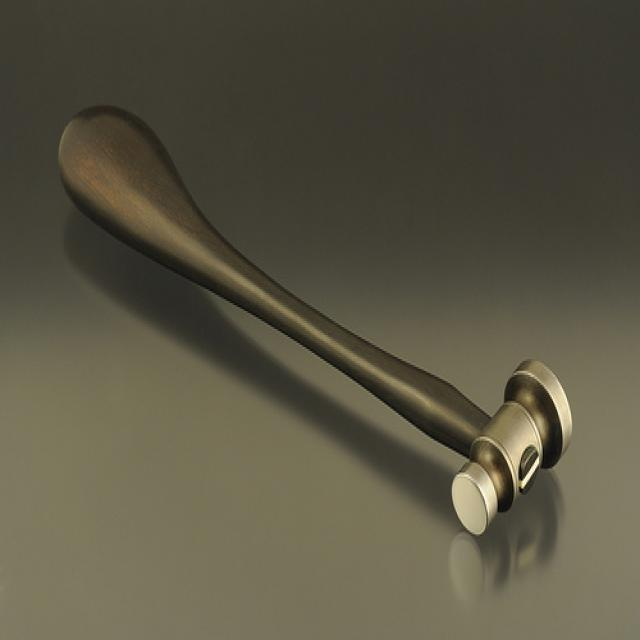hammer: (51, 80, 584, 547)
